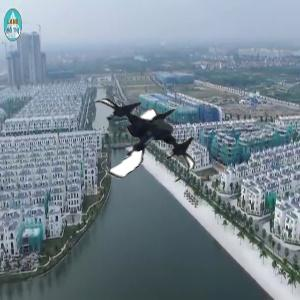drone: (89, 82, 201, 194)
